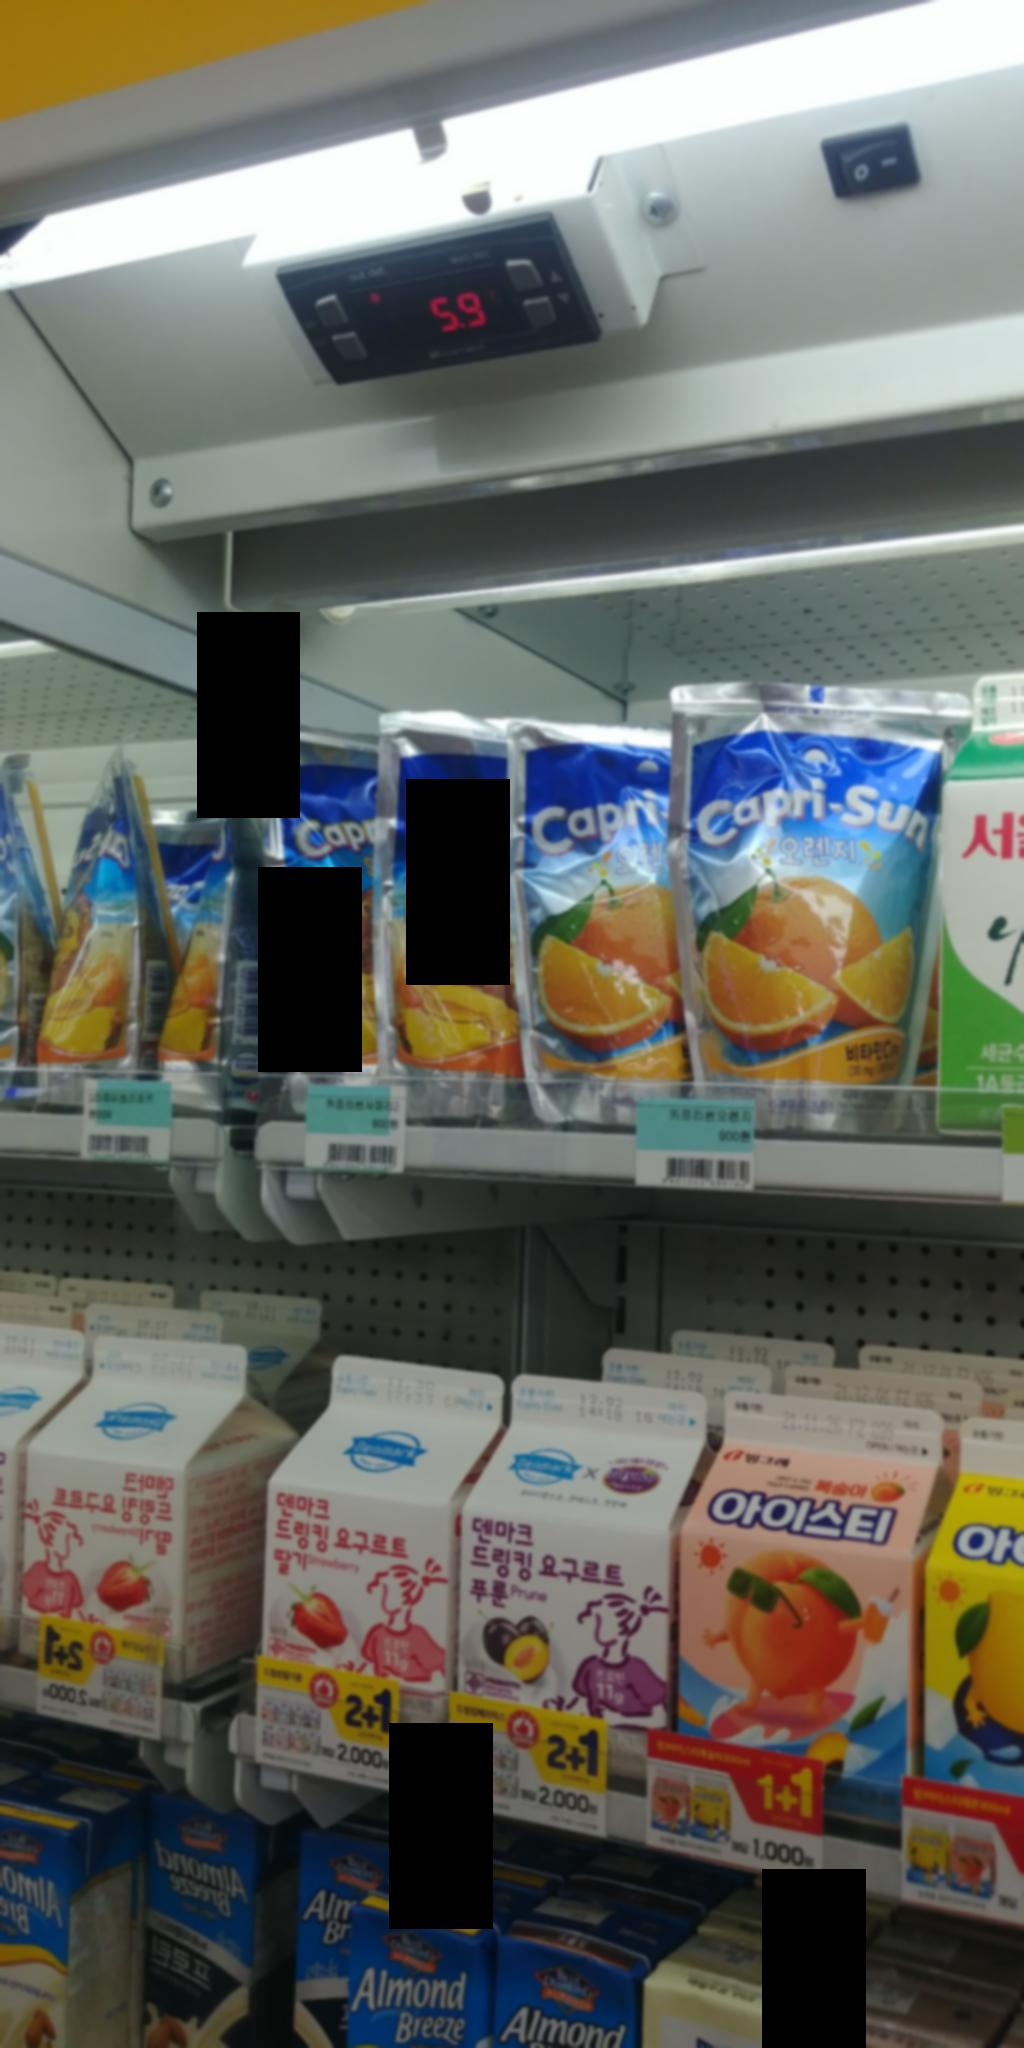cafrisun: (656, 671, 978, 1139), (495, 696, 701, 1122)
